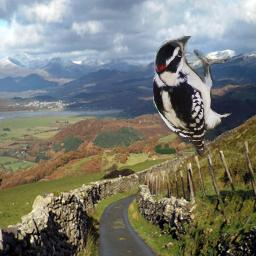Woodpecker: (153, 36, 232, 158)
